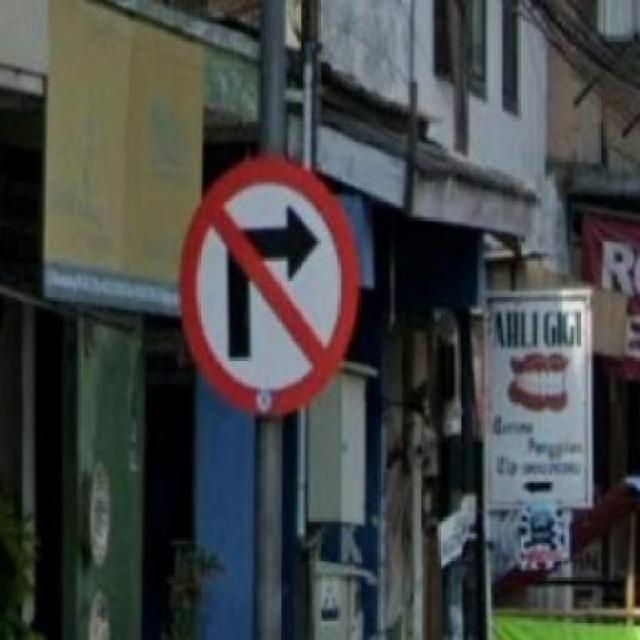right turn prohibited: (173, 153, 369, 422)
